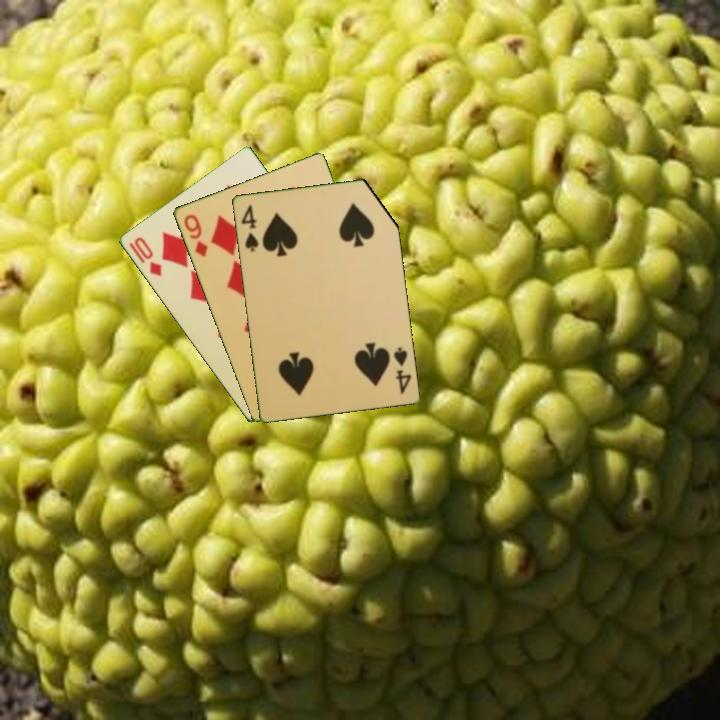10d: (125, 233, 164, 279)
4s: (237, 201, 261, 254), (390, 343, 414, 396)
9d: (180, 210, 210, 260)
